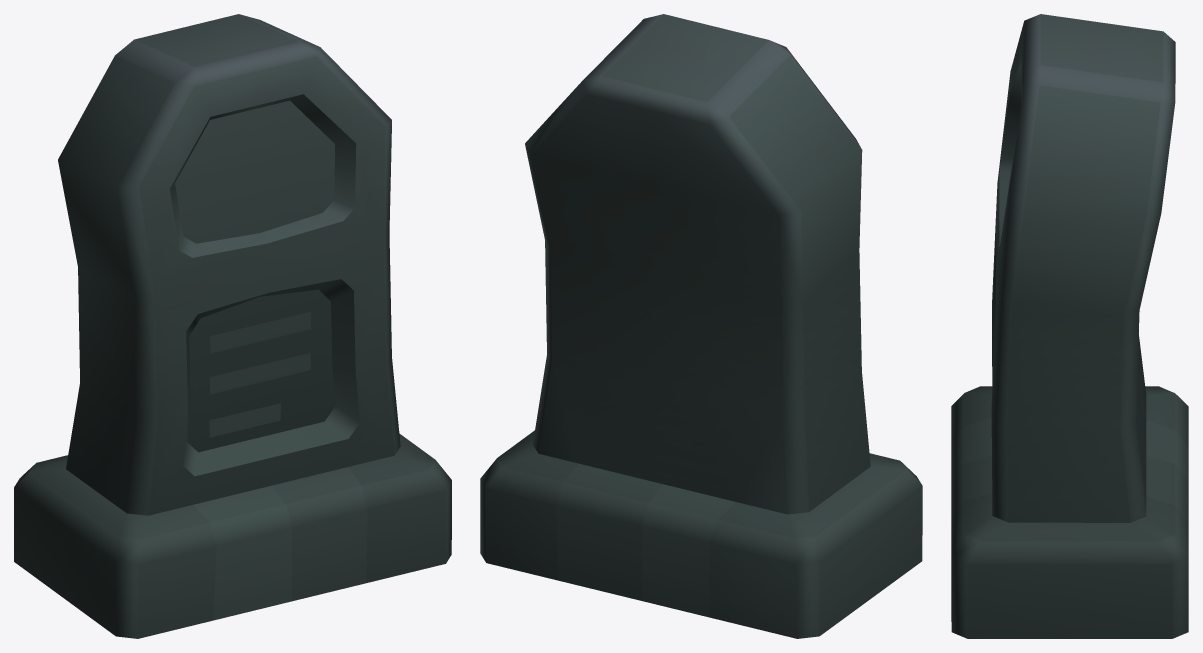
The model's file is undead_tomb_stone_3.fbx.
The picture shows the model from 3 angles, left to right: view 1: azimuth 30°, elevation 25°; view 2: azimuth 150°, elevation 25°; view 3: azimuth 270°, elevation 25°; orthographic projection.
Parts seen in each view (by area): view 1: undead_tomb_stone_3; view 2: undead_tomb_stone_3; view 3: undead_tomb_stone_3.
Part boxes in pixels (x1=…): undead_tomb_stone_3: x1=14, y1=14, x2=451, y2=638; undead_tomb_stone_3: x1=480, y1=14, x2=922, y2=638; undead_tomb_stone_3: x1=951, y1=14, x2=1188, y2=638.
Bounding box in the file's own units: 1.35 × 1.98 × 0.8223.
